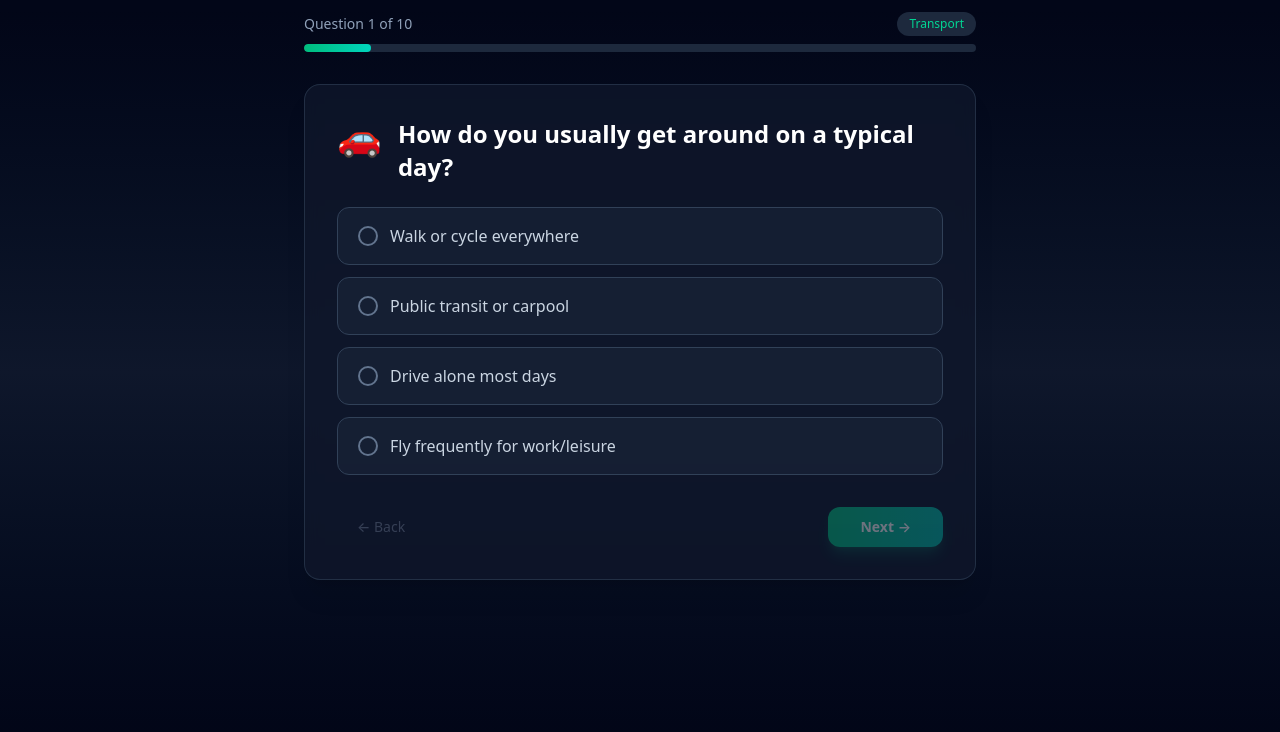
Quiz component › advances to the second question and updates the progress bar
Click the radio button labelled "Walk or cycle everywhere" at (485, 236), box top-left (337, 207), bottom-right (943, 265)
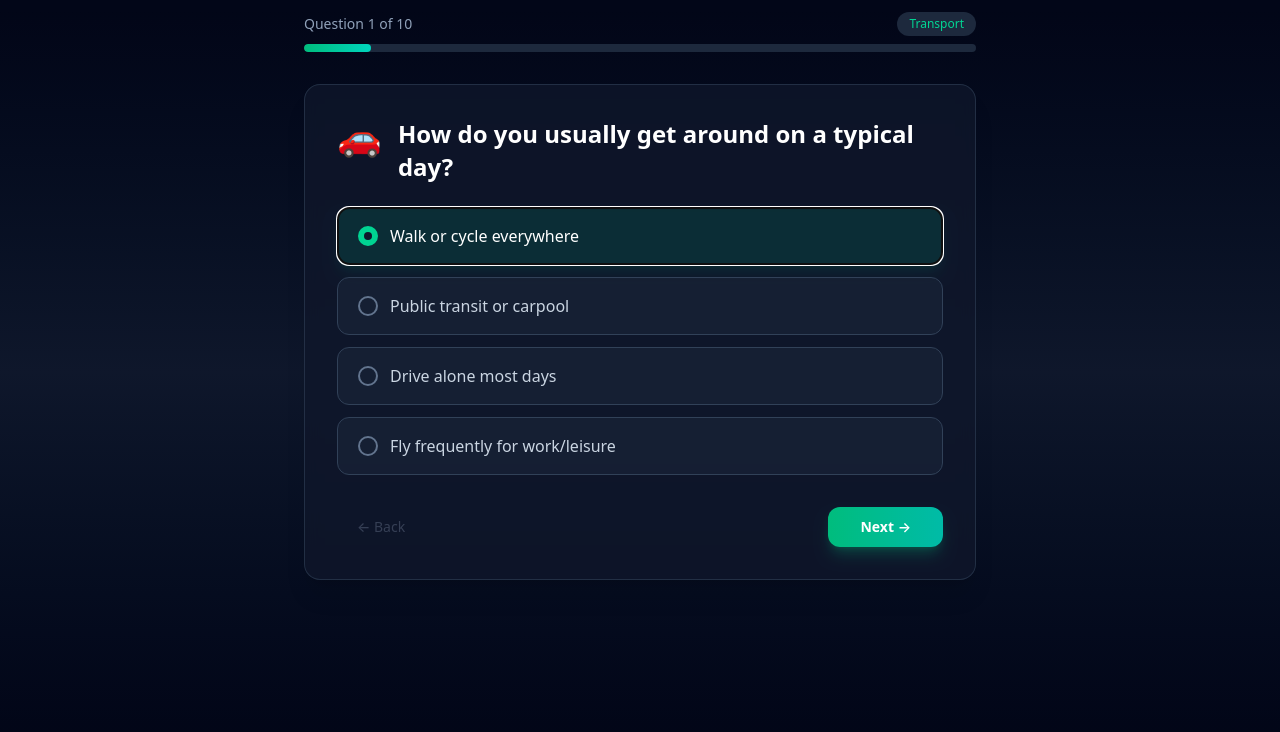
Click the button "Next →" at (886, 527), box top-left (828, 507), bottom-right (943, 547)
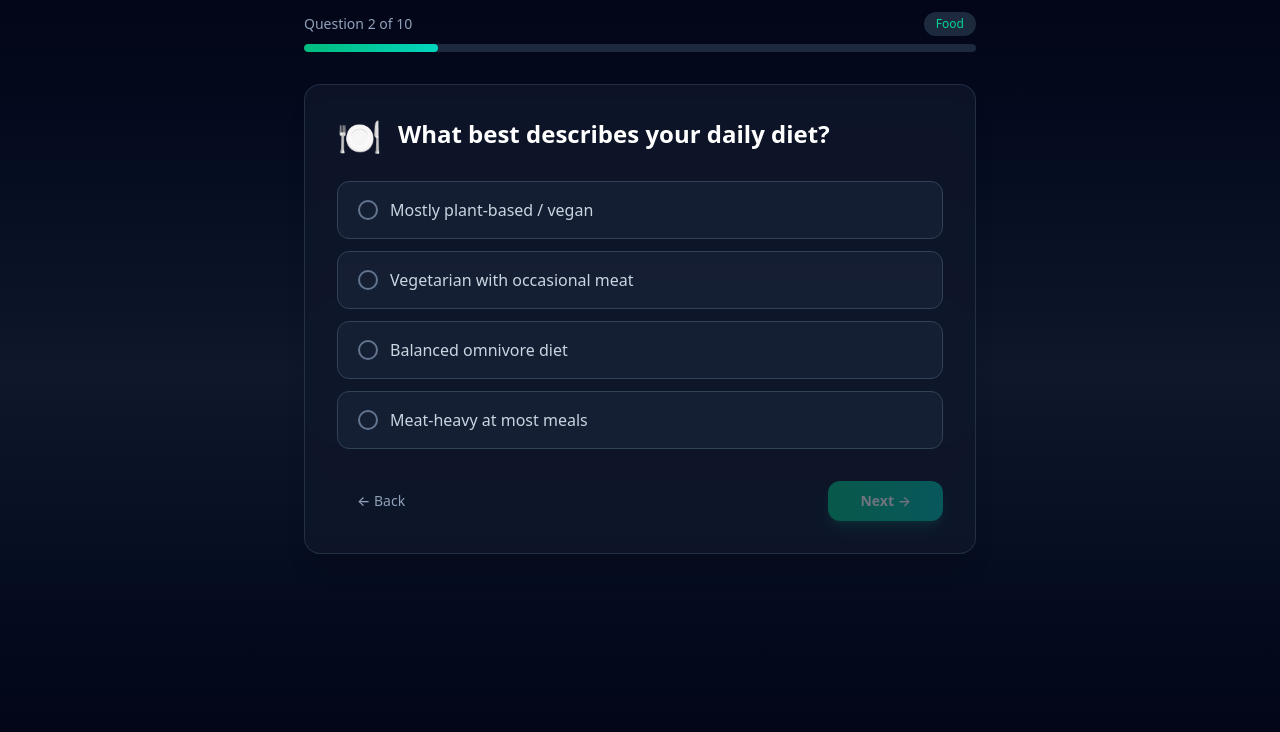
Check: the text "Question 2 of 10" is shown, box top-left (304, 14), bottom-right (412, 34)
